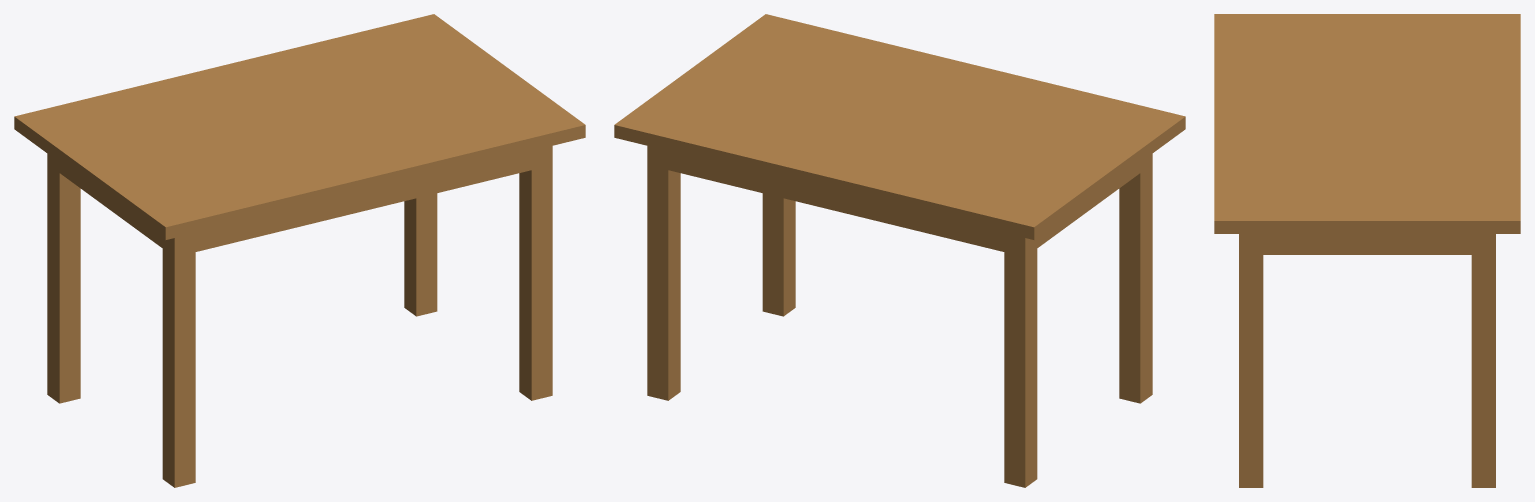
File: parametric-table-service.glb
3 renders of one model, left to right at view 1: azimuth 30°, elevation 25°; view 2: azimuth 150°, elevation 25°; view 3: azimuth 270°, elevation 25°, orthographic.
Visible parts, largest first — view 1: parametric-table-service; view 2: parametric-table-service; view 3: parametric-table-service.
Part boxes in pixels (left/top/right/bottom): parametric-table-service: left=14, top=14, right=585, bottom=487; parametric-table-service: left=614, top=14, right=1185, bottom=487; parametric-table-service: left=1214, top=14, right=1520, bottom=487.
Size of the model in its own units: 1.2 by 0.75 by 0.75.
